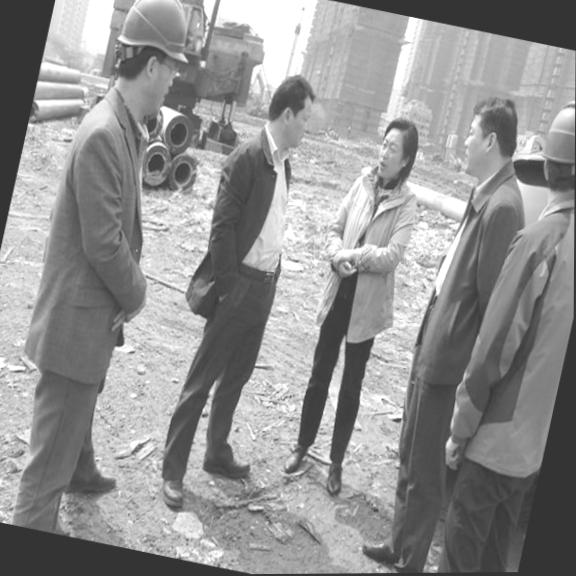no_safety_vest: (11, 79, 190, 403), (435, 166, 575, 487), (403, 155, 538, 405), (181, 125, 312, 334), (305, 160, 429, 345)
